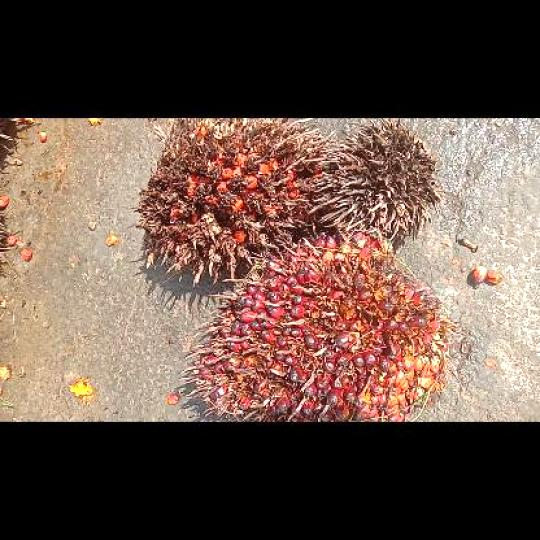masak: (178, 231, 463, 421)
terlalu masak: (133, 117, 332, 285)
